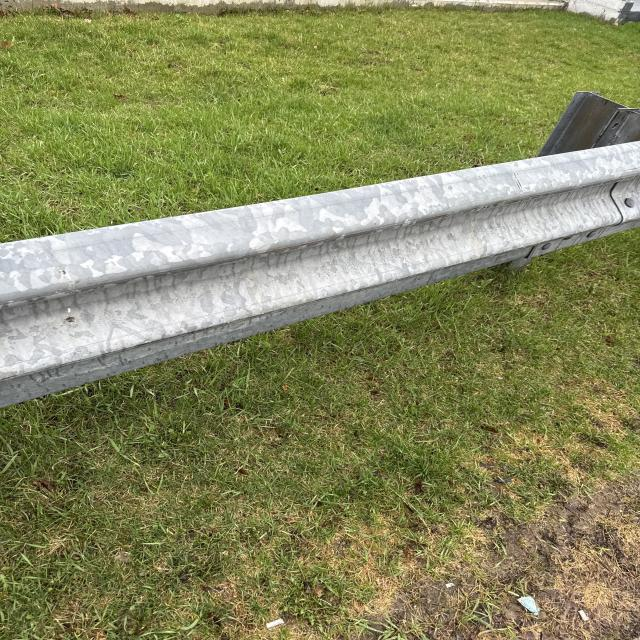Guard rail: (35, 126, 640, 367)
